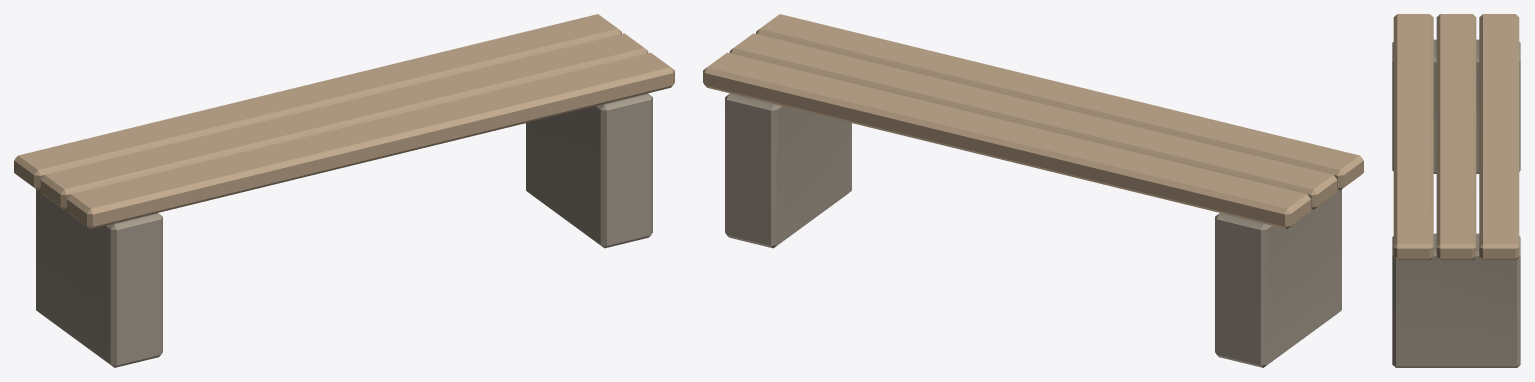
The model's file is jail_bench.glb.
3 views of the same model, side by side, from view 1: azimuth 30°, elevation 25°; view 2: azimuth 150°, elevation 25°; view 3: azimuth 270°, elevation 25° (orthographic). The views are drawn at different scales.
Size of the model in its own units: 1.8 by 0.48 by 0.42.
